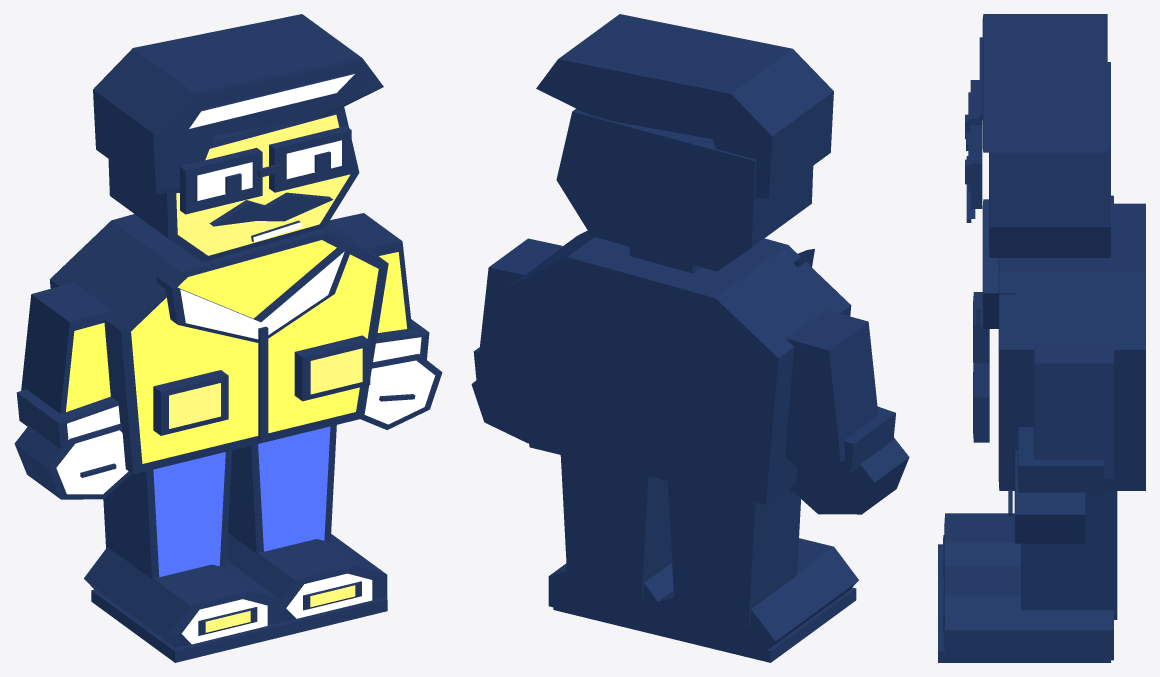
File: customer.glb
3 views of the same model, side by side, from view 1: azimuth 30°, elevation 25°; view 2: azimuth 150°, elevation 25°; view 3: azimuth 270°, elevation 25° (orthographic). The views are drawn at different scales.
Parts seen in each view (by area): view 1: BodyPivot_Art.001, HeadPivot_Art.001, LeftLegPivot_Art.001, RightLegPivot_Art.001, LeftArmPivot_Art.001, RightArmPivot_Art.001; view 2: BodyPivot_Art.001, HeadPivot_Art.001, LeftLegPivot_Art.001, LeftArmPivot_Art.001, RightLegPivot_Art.001, RightArmPivot_Art.001; view 3: HeadPivot_Art.001, BodyPivot_Art.001, RightLegPivot_Art.001, RightArmPivot_Art.001, LeftLegPivot_Art.001.
Part boxes in pixels (x1,y1,x2,y2): BodyPivot_Art.001: (49,214,388,474); HeadPivot_Art.001: (93,14,383,262); LeftLegPivot_Art.001: (84,450,282,662); RightLegPivot_Art.001: (226,425,387,637); LeftArmPivot_Art.001: (14,282,131,499); RightArmPivot_Art.001: (329,213,442,429); BodyPivot_Art.001: (504,230,851,504); HeadPivot_Art.001: (536,14,833,273); LeftLegPivot_Art.001: (655,481,858,662); LeftArmPivot_Art.001: (785,309,909,514); RightLegPivot_Art.001: (548,455,673,636); RightArmPivot_Art.001: (471,238,563,443); HeadPivot_Art.001: (965,14,1110,257); BodyPivot_Art.001: (973,199,1145,490); RightLegPivot_Art.001: (938,491,1117,662); RightArmPivot_Art.001: (1008,344,1113,543); LeftLegPivot_Art.001: (938,513,1020,598).
Size of the model in its own units: 1.47 by 1.95 by 0.652.
